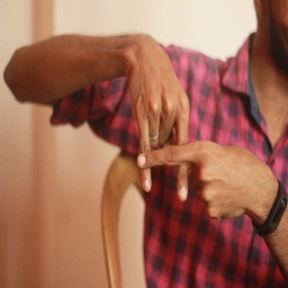H: (127, 98, 219, 205)
